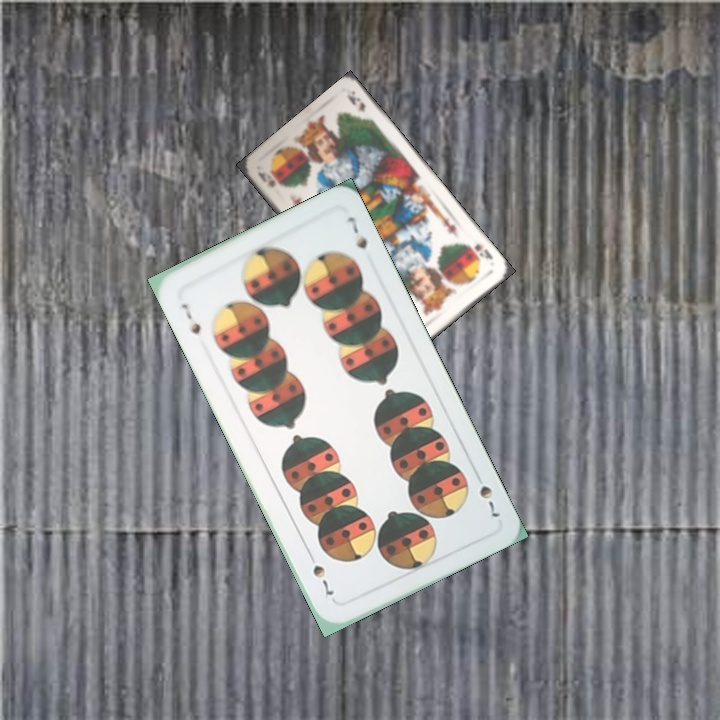S7: (475, 480, 503, 520), (177, 299, 204, 337)
SK: (470, 240, 495, 263), (254, 167, 278, 190)
